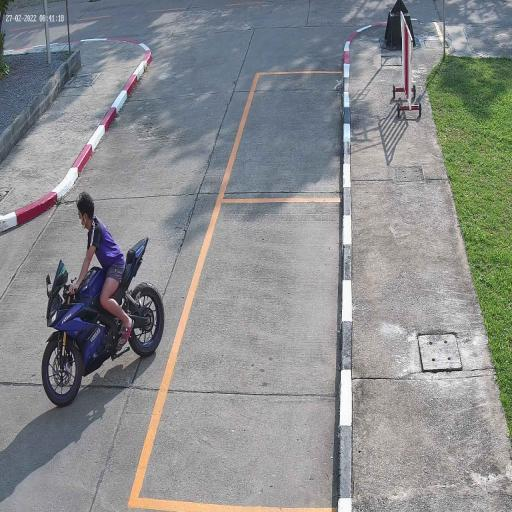motorcycle: (40, 260, 166, 410)
